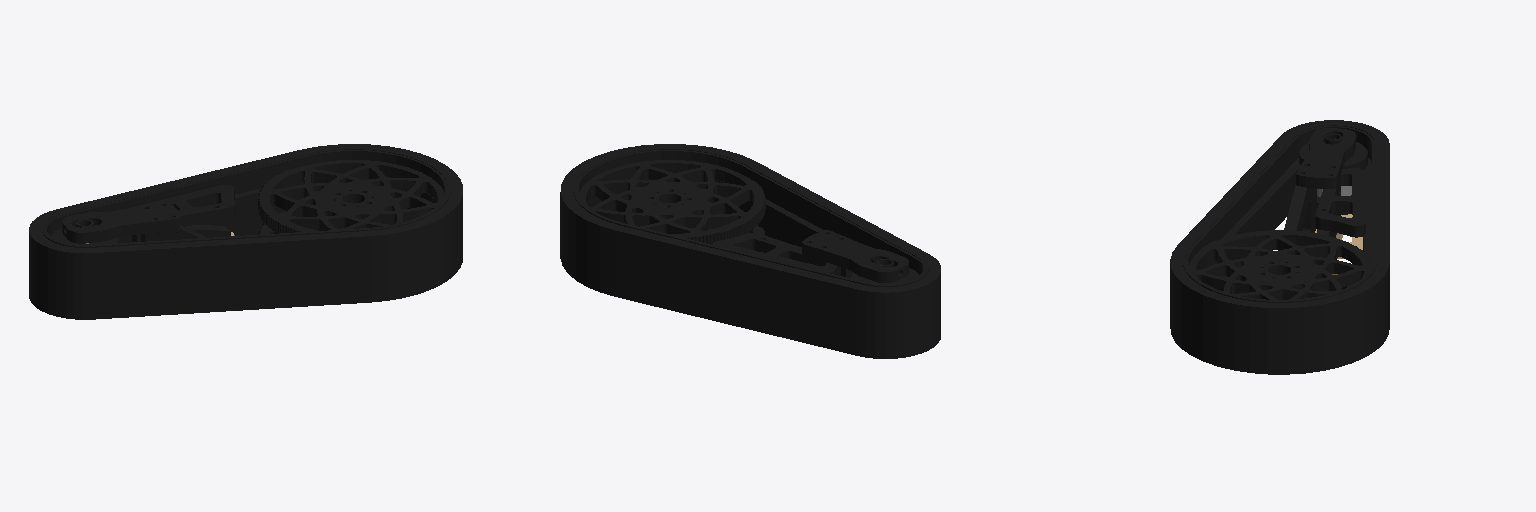
The model's file is JaguarFlipper1.obj.
3 views of the same model, side by side, from view 1: azimuth 30°, elevation 25°; view 2: azimuth 150°, elevation 25°; view 3: azimuth 270°, elevation 25° (orthographic).
Visible parts, largest first — view 1: default; view 2: default; view 3: default.
Part boxes in pixels (bbox=[...]): default: bbox=[29, 144, 462, 319]; default: bbox=[560, 144, 940, 358]; default: bbox=[1170, 120, 1389, 374].
Bounding box in the file's own units: 4.15 × 0.9983 × 2.05.